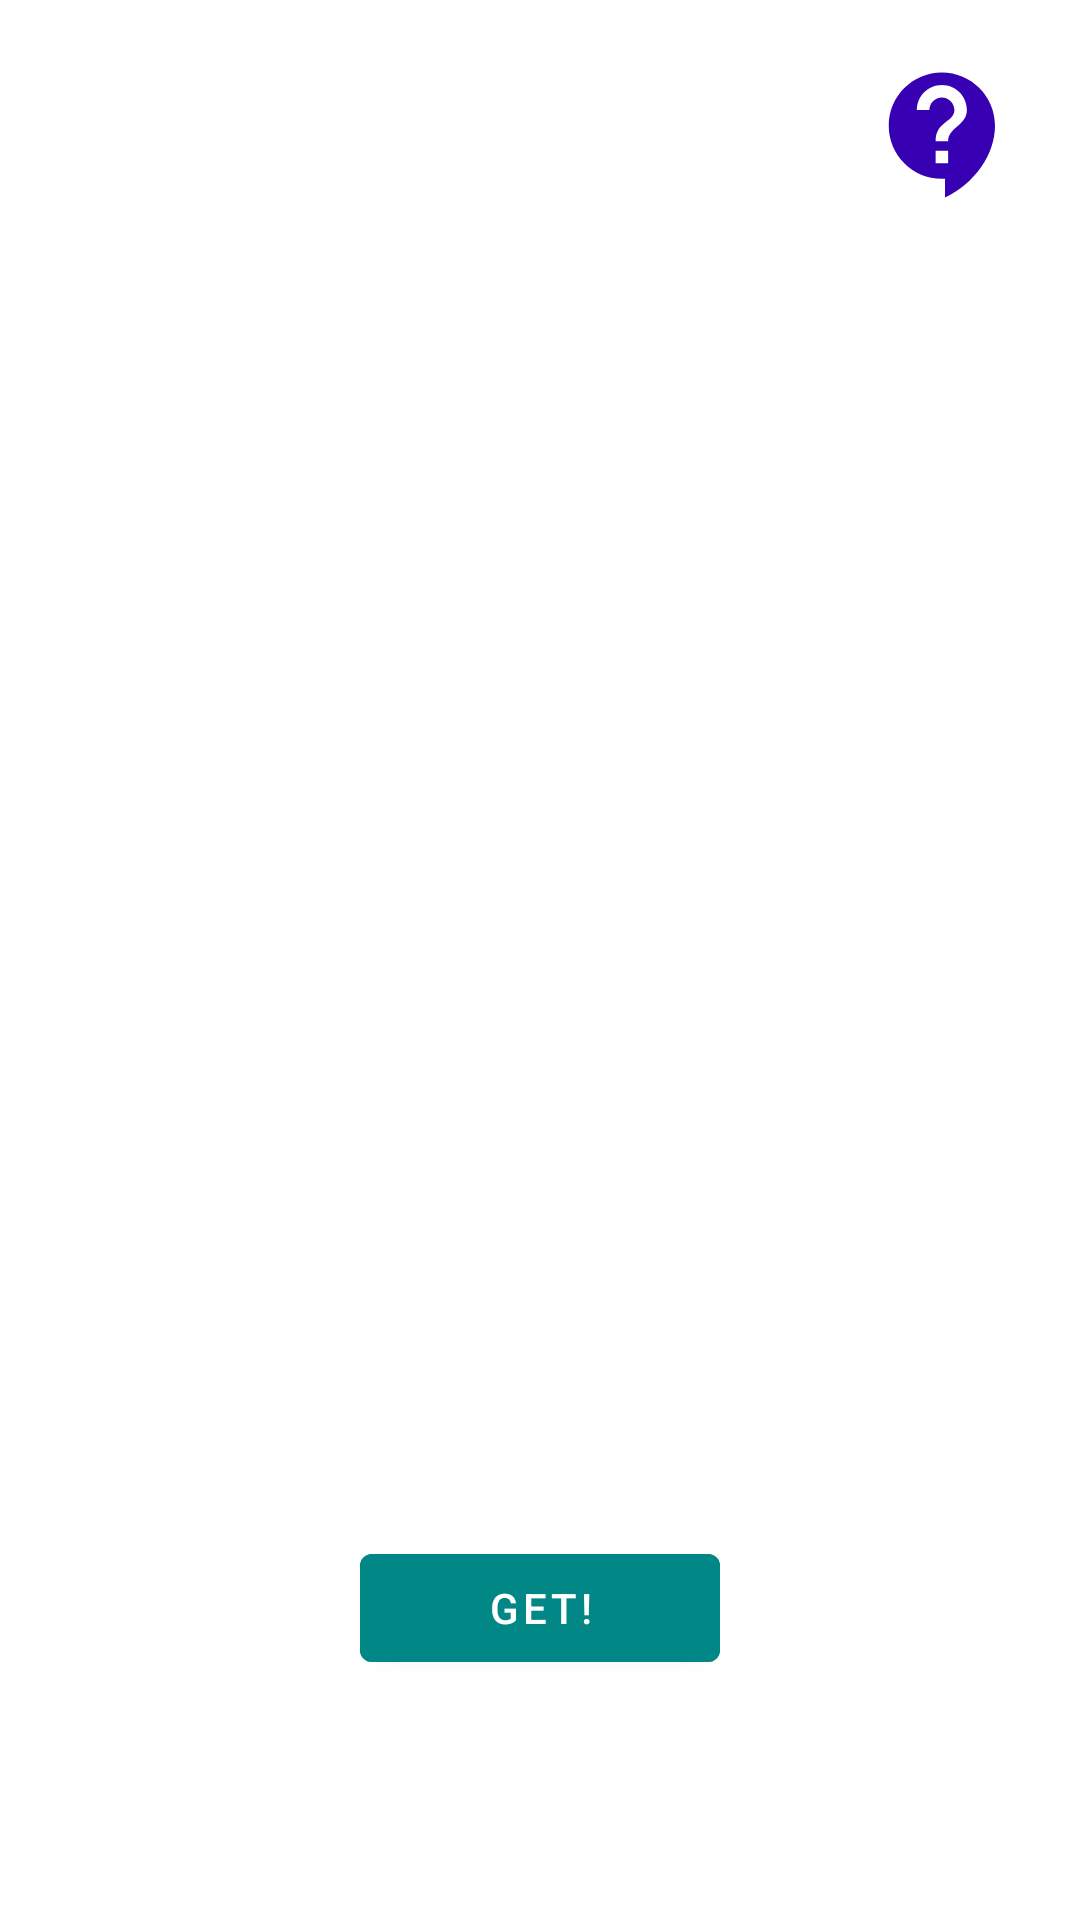

Screen size 1080 × 1920. Icon name, then its center in pixels as [x,y]:
contact support: [941,135]
